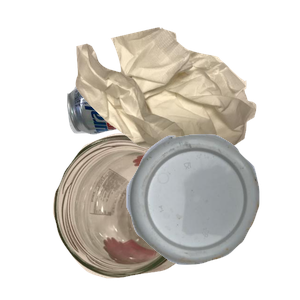glass: (50, 131, 252, 300)
metal: (65, 65, 231, 192)
plastic: (124, 132, 300, 300)
trash: (73, 25, 300, 183)
